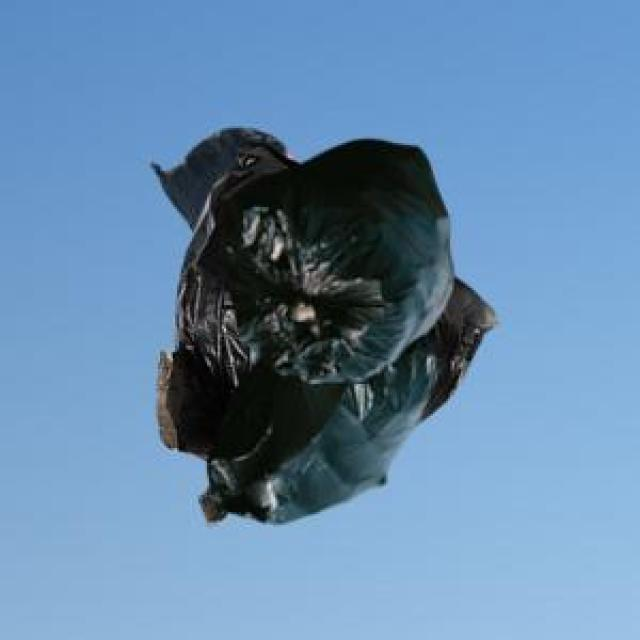Trashbag: (196, 132, 464, 388), (203, 340, 441, 536)
